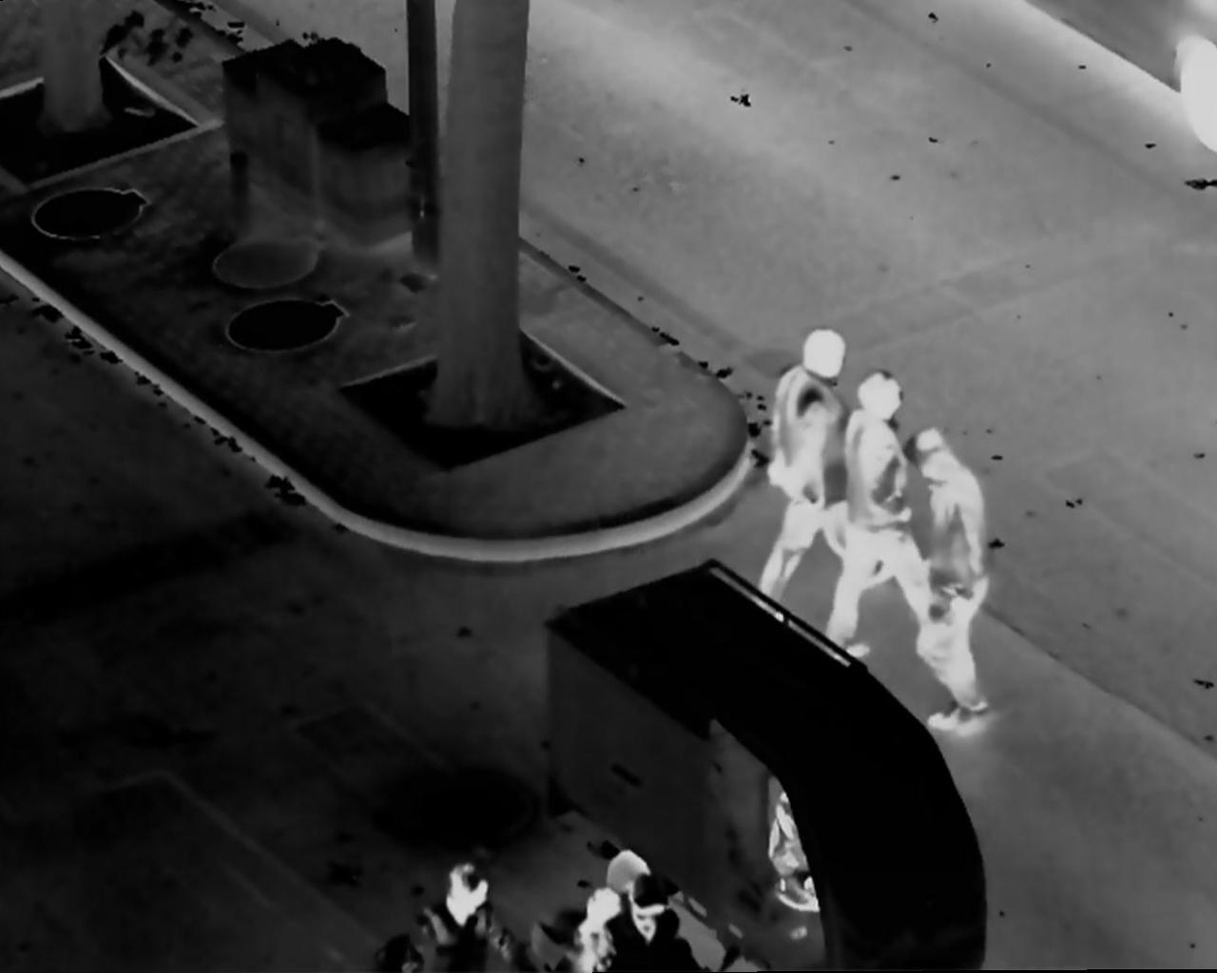person: (896, 422, 1012, 746), (818, 364, 924, 683), (746, 319, 850, 624), (415, 860, 527, 973), (568, 843, 650, 973)
